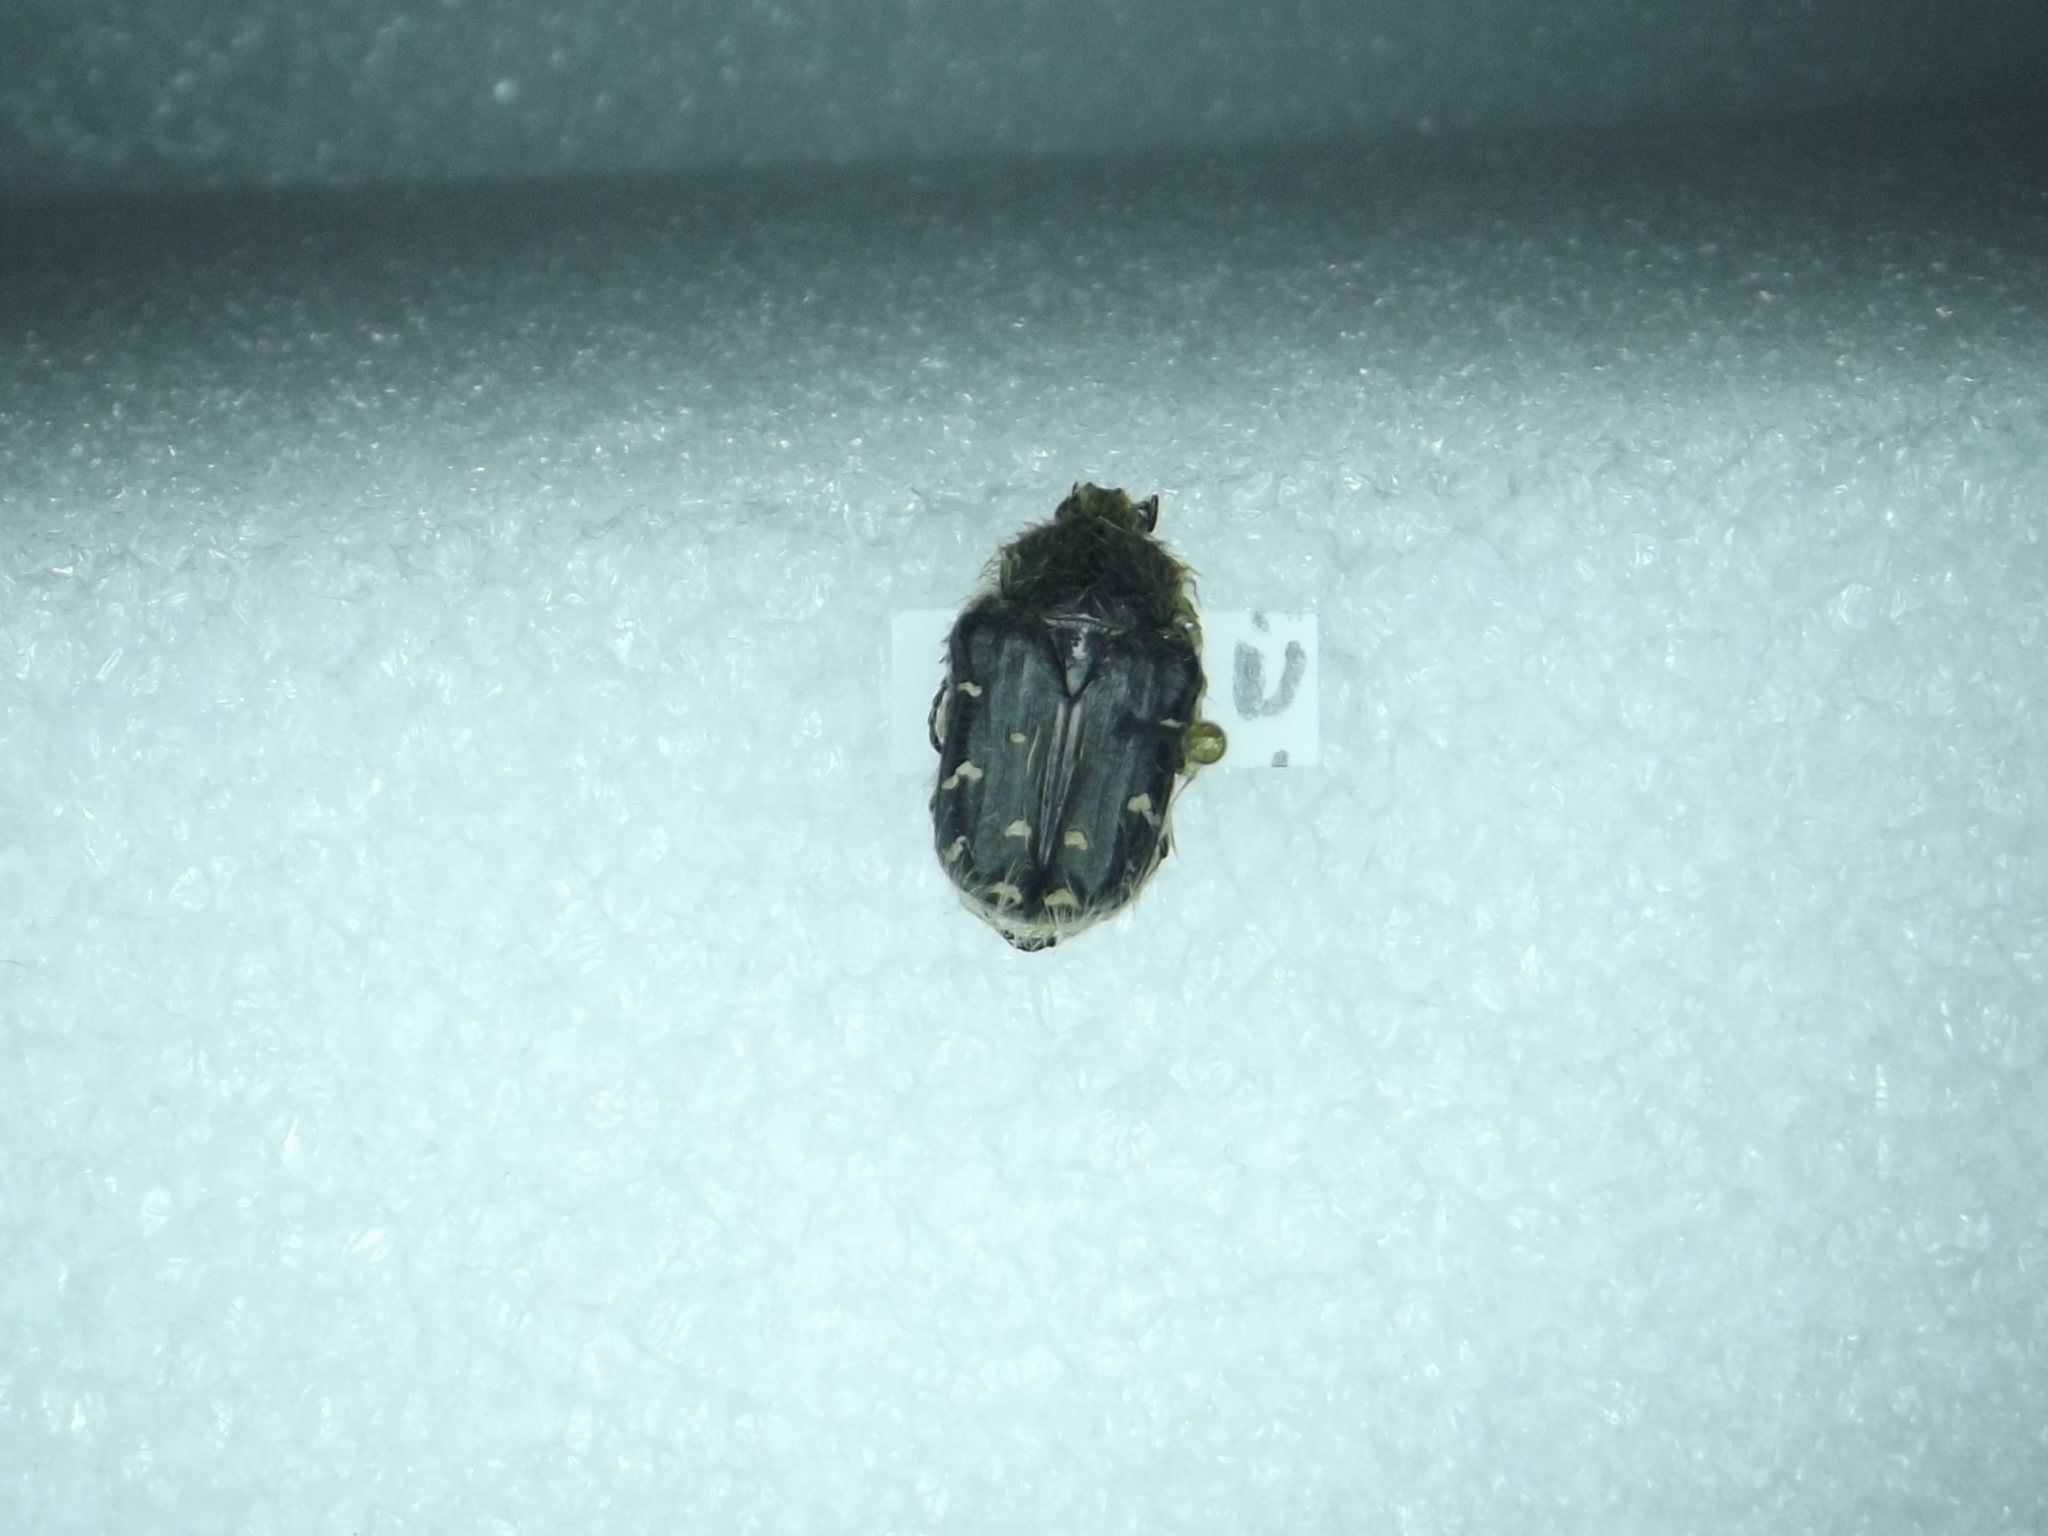Tropinota_senicula: (911, 465, 1242, 966)
